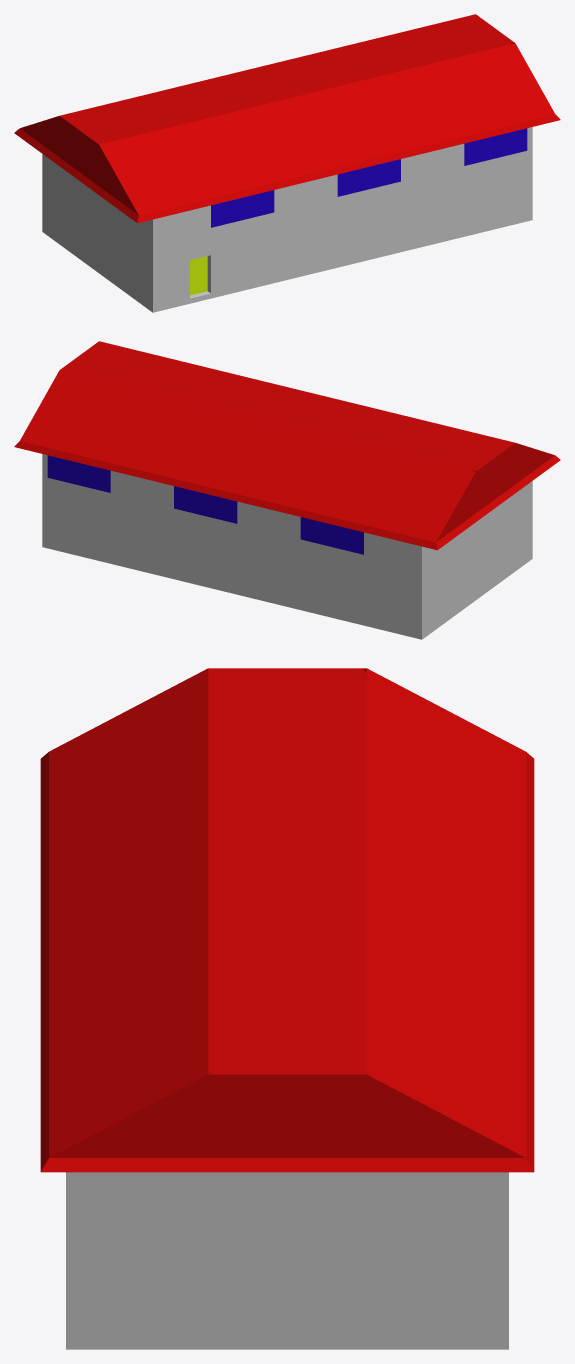
The model's file is Warehouse.fbx.
3 views of the same model, one above another, from view 1: azimuth 30°, elevation 25°; view 2: azimuth 150°, elevation 25°; view 3: azimuth 270°, elevation 25° (orthographic). The views are drawn at different scales.
Parts seen in each view (by area): view 1: Cube; view 2: Cube; view 3: Cube.
Boxes of the visible parts, bbox=[...] form: Cube: bbox=[14, 14, 560, 312]; Cube: bbox=[14, 341, 560, 639]; Cube: bbox=[40, 668, 534, 1349].
Size of the model in its own units: 442 by 146 by 223.
